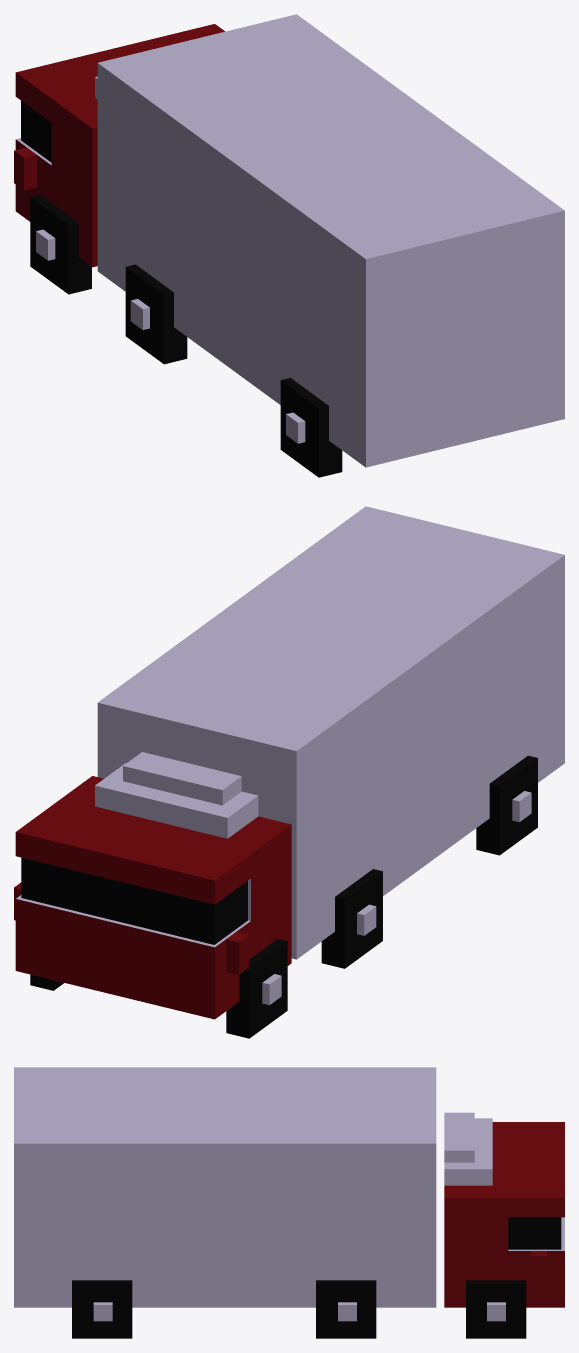
Rendered from Truck.obj.
3 renders of one model, top to bottom at view 1: azimuth 30°, elevation 25°; view 2: azimuth 150°, elevation 25°; view 3: azimuth 270°, elevation 25°, orthographic. The views are drawn at different scales.
Visible parts, largest first — view 1: Back_Cube.005, Front_Cube.003, Wheel_Cube.010, BottonWheel_Plane.001, Window_Plane, Mirror_Cube; view 2: Back_Cube.005, Front_Cube.003, Wheel_Cube.010, Window_Plane, Roof_Cube.007, BottonWheel_Plane.001, Mirror_Cube; view 3: Back_Cube.005, Front_Cube.003, Wheel_Cube.010, Roof_Cube.007, Window_Plane, BottonWheel_Plane.001, Mirror_Cube.
Boxes of the visible parts, x1,y1,x2,y2 form: Back_Cube.005: (97, 14, 564, 467); Front_Cube.003: (15, 24, 224, 267); Wheel_Cube.010: (30, 194, 342, 477); BottonWheel_Plane.001: (36, 229, 305, 443); Window_Plane: (21, 101, 51, 162); Mirror_Cube: (14, 147, 36, 190); Back_Cube.005: (97, 506, 564, 959); Front_Cube.003: (15, 776, 291, 1019); Wheel_Cube.010: (30, 755, 537, 1038); Window_Plane: (21, 857, 247, 944); Roof_Cube.007: (95, 752, 258, 838); BottonWheel_Plane.001: (262, 791, 531, 1005); Mirror_Cube: (14, 882, 248, 974); Back_Cube.005: (14, 1067, 436, 1307); Front_Cube.003: (444, 1122, 564, 1307); Wheel_Cube.010: (72, 1280, 526, 1338); Roof_Cube.007: (444, 1112, 492, 1185); Window_Plane: (508, 1217, 561, 1249); BottonWheel_Plane.001: (93, 1302, 505, 1321); Mirror_Cube: (531, 1251, 547, 1281).
Bounding box in the file's own units: 3.52 × 3.5 × 9.13.
